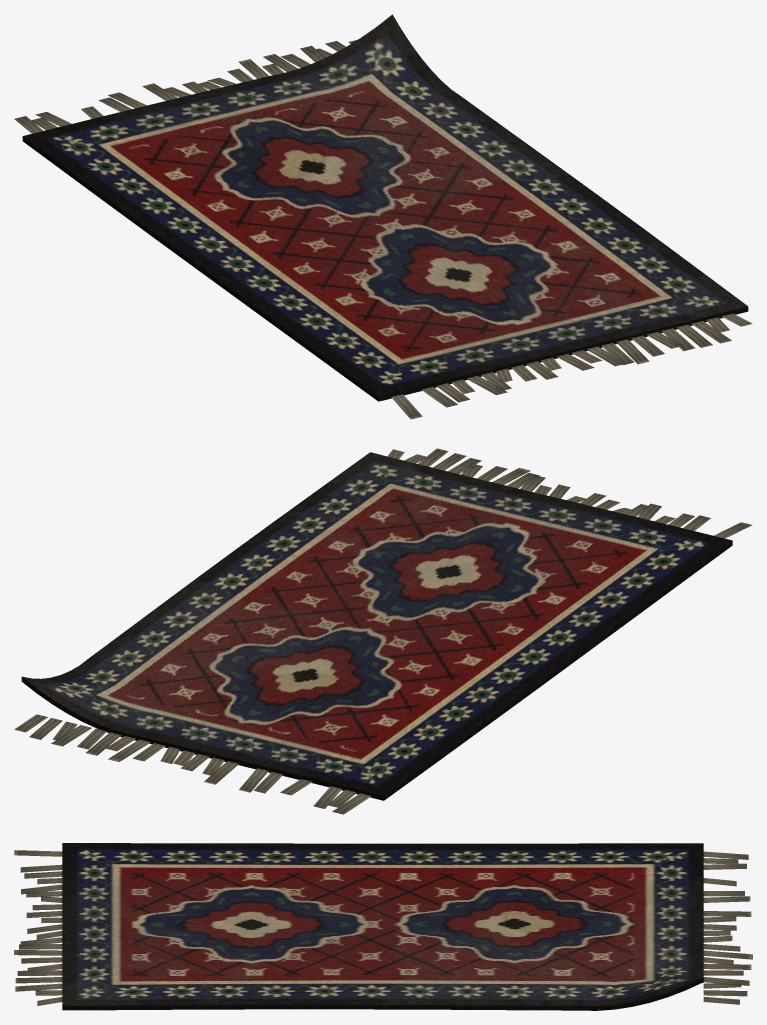
Rendered from carpet_rug_web.glb.
3 views of the same model, one above another, from view 1: azimuth 30°, elevation 25°; view 2: azimuth 150°, elevation 25°; view 3: azimuth 270°, elevation 25° (orthographic). The views are drawn at different scales.
Visible parts, largest first — view 1: CarpetRug_Body; view 2: CarpetRug_Body; view 3: CarpetRug_Body.
Boxes of the visible parts, x1,y1,x2,y2 form: CarpetRug_Body: [14, 14, 752, 419]; CarpetRug_Body: [14, 448, 752, 814]; CarpetRug_Body: [14, 843, 752, 1010].
Bounding box in the file's own units: 0.6 × 0.058 × 1.15.
1 material, 1 textured.
